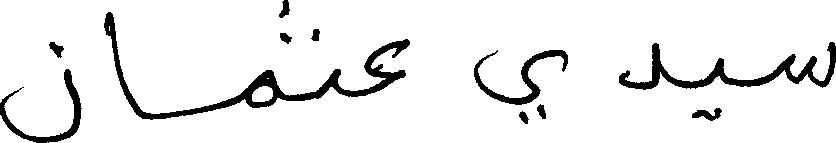X: (0, 37, 80, 142), (475, 45, 566, 128), (106, 7, 138, 120), (366, 34, 409, 99), (785, 37, 835, 92), (620, 38, 659, 94), (245, 65, 277, 112), (714, 53, 724, 124), (327, 64, 342, 99)
